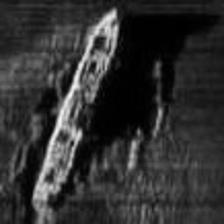ship: (32, 9, 119, 214)
